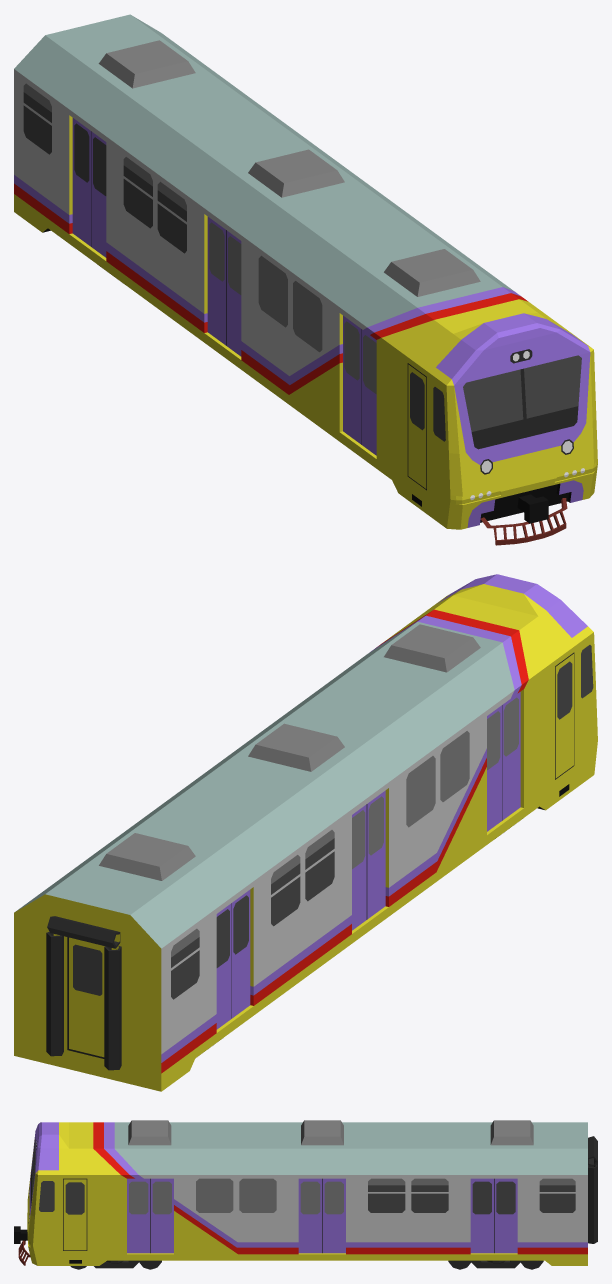
The model's file is locomotive.fbx.
The picture shows the model from 3 angles, top to bottom: view 1: azimuth 30°, elevation 25°; view 2: azimuth 150°, elevation 25°; view 3: azimuth 270°, elevation 25°; orthographic projection. The views are drawn at different scales.
Parts seen in each view (by area): view 1: Locomotive; view 2: Locomotive; view 3: Locomotive.
Part boxes in pixels (x1,y1,x2,y2): Locomotive: (14, 14, 597, 545); Locomotive: (14, 574, 597, 1091); Locomotive: (14, 1120, 597, 1269).
Bounding box in the file's own units: 108 × 145 × 585.
